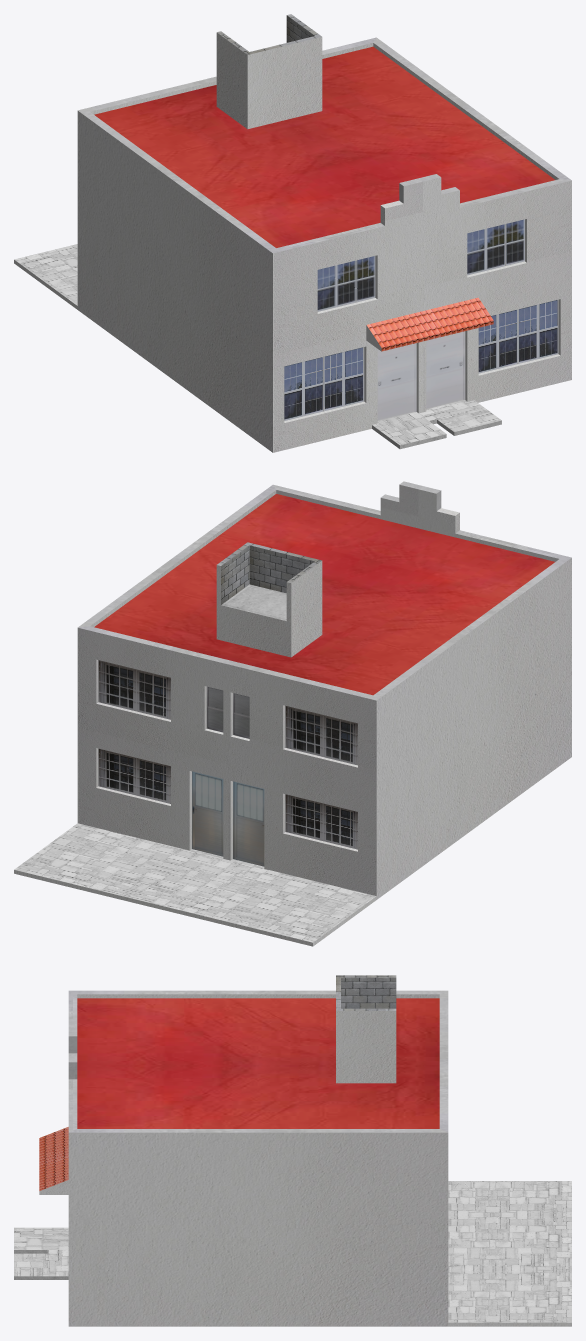
File: mx_res_1x2_duplex.fbx
3 views of the same model, one above another, from view 1: azimuth 30°, elevation 25°; view 2: azimuth 150°, elevation 25°; view 3: azimuth 270°, elevation 25° (orthographic). The views are drawn at different scales.
Parts seen in each view (by area): view 1: Layer0_001; view 2: Layer0_001; view 3: Layer0_001.
Boxes of the visible parts, x1,y1,x2,y2 form: Layer0_001: (14, 14, 571, 452); Layer0_001: (14, 481, 571, 946); Layer0_001: (14, 975, 571, 1326).
Bounding box in the file's own units: 800 × 690 × 1330.
